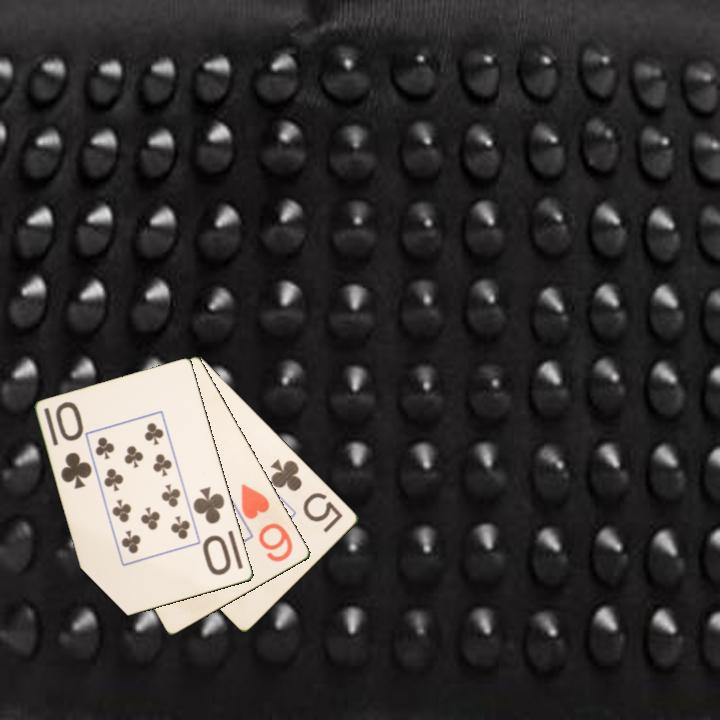10c: (190, 483, 234, 579), (52, 398, 95, 492)
5c: (266, 455, 346, 536)
6h: (238, 480, 296, 565)
